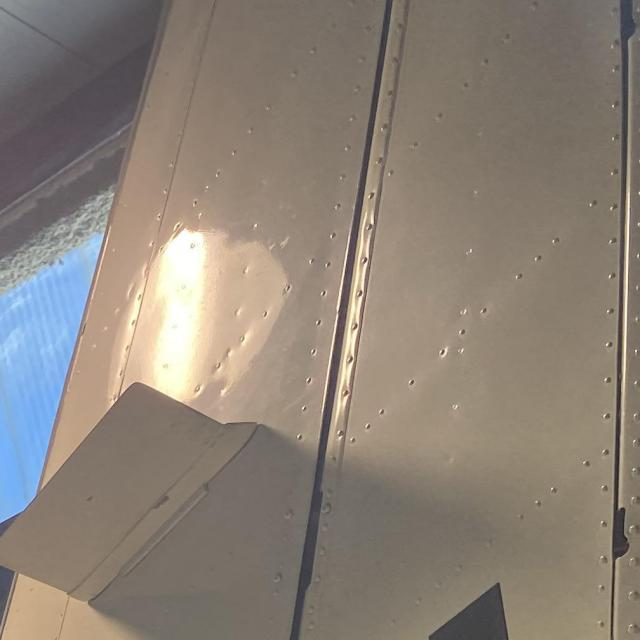Paint-off: (154, 493, 168, 509)
